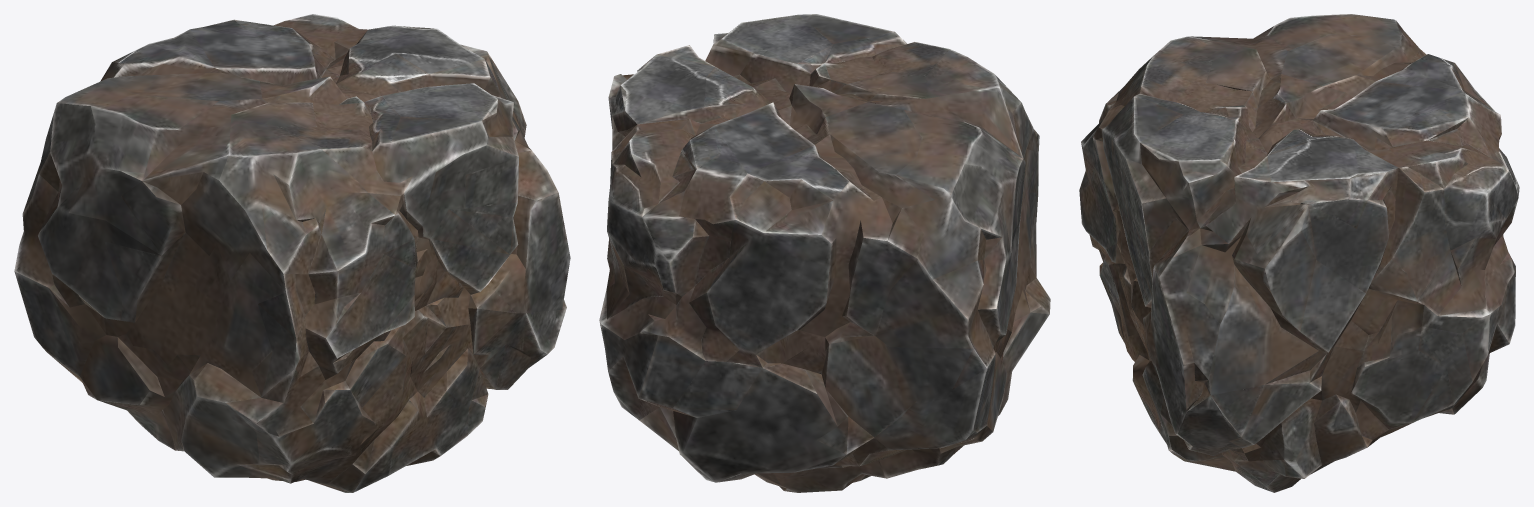
The model's file is et_rock1.glb.
The picture shows the model from 3 angles, left to right: view 1: azimuth 30°, elevation 25°; view 2: azimuth 150°, elevation 25°; view 3: azimuth 270°, elevation 25°; orthographic projection. The views are drawn at different scales.
Bounding box in the file's own units: 1.89 × 1.61 × 1.73.
Materials: 1 (1 with a texture image).
